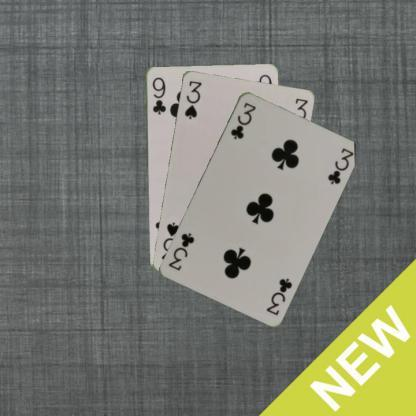3c: (264, 275, 294, 317), (228, 100, 258, 140)
3s: (181, 78, 203, 120)
9c: (150, 74, 167, 116)
